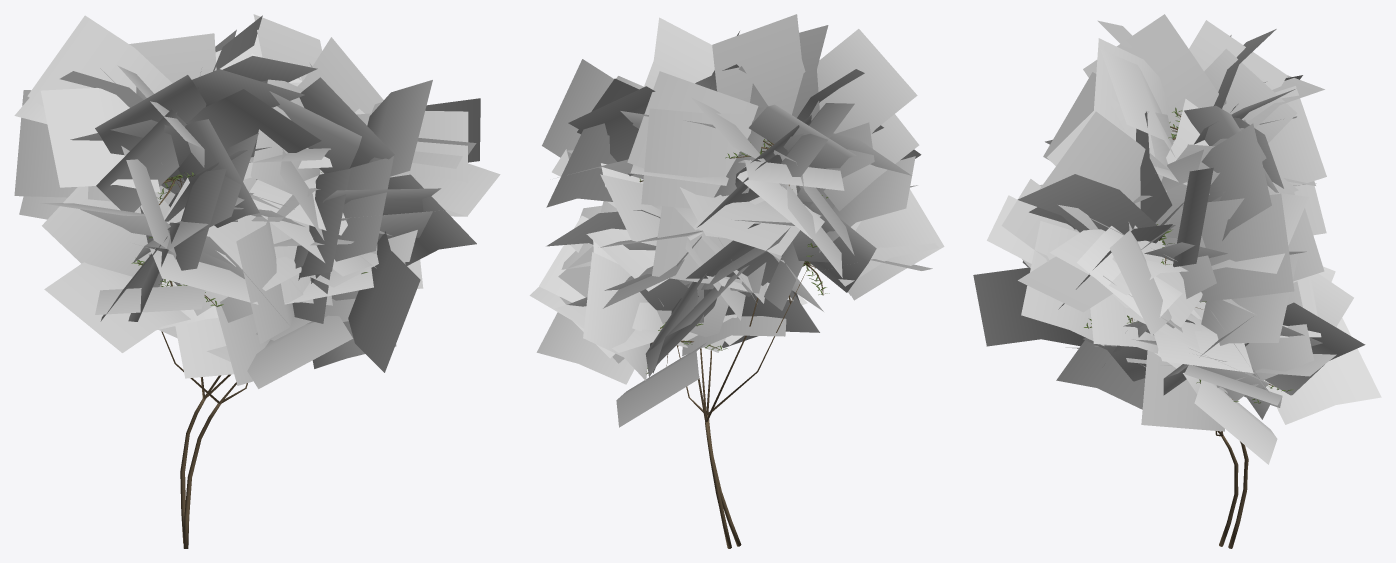
The model's file is Bruyere_Jeune_LOD0.fbx.
The picture shows the model from 3 angles, left to right: view 1: azimuth 30°, elevation 25°; view 2: azimuth 150°, elevation 25°; view 3: azimuth 270°, elevation 25°; orthographic projection. The views are drawn at different scales.
Visible parts, largest first — view 1: Bruyere_Jeune; view 2: Bruyere_Jeune; view 3: Bruyere_Jeune.
Part boxes in pixels (bbox=[...]): Bruyere_Jeune: bbox=[14, 14, 500, 548]; Bruyere_Jeune: bbox=[529, 14, 944, 548]; Bruyere_Jeune: bbox=[973, 14, 1381, 548].
Size of the model in its own units: 178 by 215 by 160.
